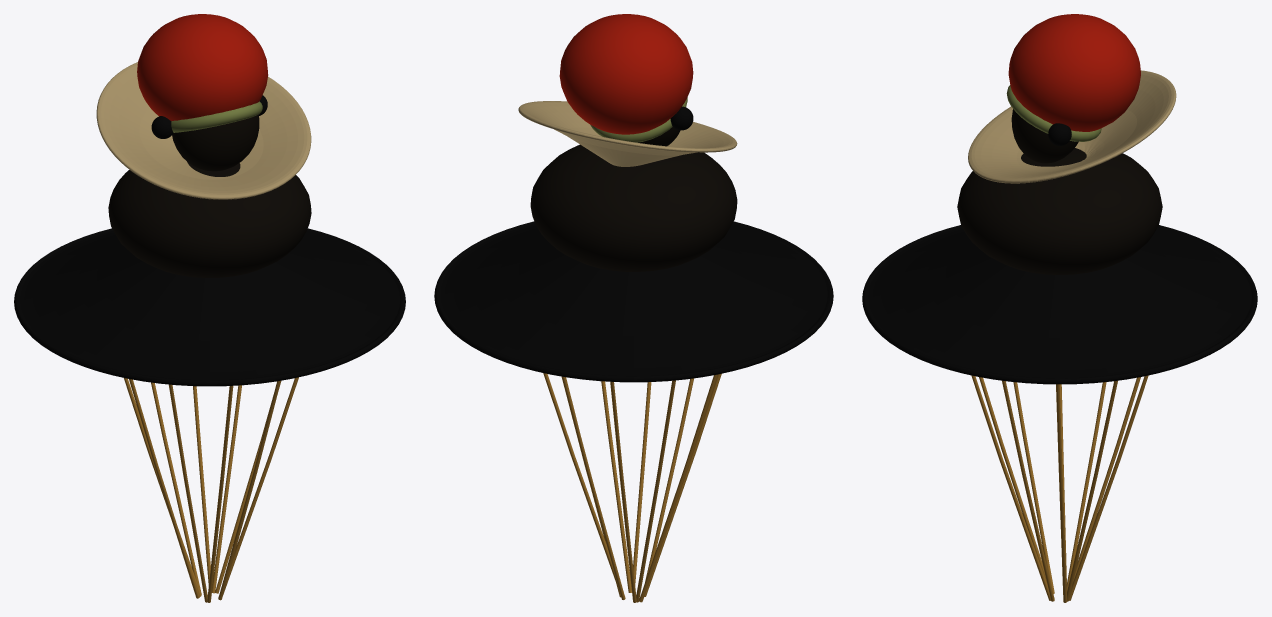
Rendered from Audience1.fbx.
The picture shows the model from 3 angles, left to right: view 1: azimuth 30°, elevation 25°; view 2: azimuth 150°, elevation 25°; view 3: azimuth 270°, elevation 25°; orthographic projection.
Parts seen in each view (by area): view 1: Cylinder_2, chest, Cylinder, Sphere_2, face, Torus, Cylinder_2_5, Cylinder_2_2, Cylinder_2_4, Cylinder_2_3, Cylinder_2_9, Cylinder_2_1 (+4 smaller); view 2: Cylinder_2, chest, Sphere_2, Cylinder, Cylinder_2_5, Cylinder_2_8, Cylinder_2_6, Cylinder_2_7, Cylinder_2_1, Cylinder_2_9, Cylinder_2_3, Cylinder_2_2 (+2 smaller); view 3: Cylinder_2, chest, Sphere_2, Cylinder, face, Cylinder_2_2, Cylinder_2_8, Cylinder_2_1, Cylinder_2_9, Cylinder_2_0, Torus, Cylinder_2_4 (+3 smaller).
Part boxes in pixels (x1,y1,x2,y2): Cylinder_2: (14,228,405,386); chest: (108,162,311,277); Cylinder: (96,62,311,199); Sphere_2: (137,14,268,121); face: (172,114,259,171); Torus: (171,101,262,132); Cylinder_2_5: (129,379,199,598); Cylinder_2_2: (218,380,280,600); Cylinder_2_4: (168,384,207,602); Cylinder_2_3: (207,386,233,602); Cylinder_2_9: (212,385,241,593); Cylinder_2_1: (223,377,298,594); Cylinder_2: (434,221,833,382); chest: (530,144,737,271); Sphere_2: (559,14,693,134); Cylinder: (518,101,737,166); Cylinder_2_5: (639,374,717,602); Cylinder_2_8: (561,376,625,599); Cylinder_2_6: (636,380,675,602); Cylinder_2_7: (610,381,636,602); Cylinder_2_1: (601,381,631,592); Cylinder_2_9: (543,373,620,593); Cylinder_2_3: (645,378,693,581); Cylinder_2_2: (633,382,651,584); Cylinder_2: (862,225,1257,384); chest: (957,148,1162,274); Sphere_2: (1008,14,1140,131); Cylinder: (968,70,1176,183); face: (1011,109,1078,163); Cylinder_2_2: (971,375,1050,600); Cylinder_2_8: (1069,375,1148,600); Cylinder_2_1: (1002,380,1054,601); Cylinder_2_9: (1067,380,1117,601); Cylinder_2_0: (1056,384,1067,602); Torus: (1006,85,1101,141); Cylinder_2_4: (1013,382,1054,593).
Size of the model in its own units: 114 by 184 by 114.
